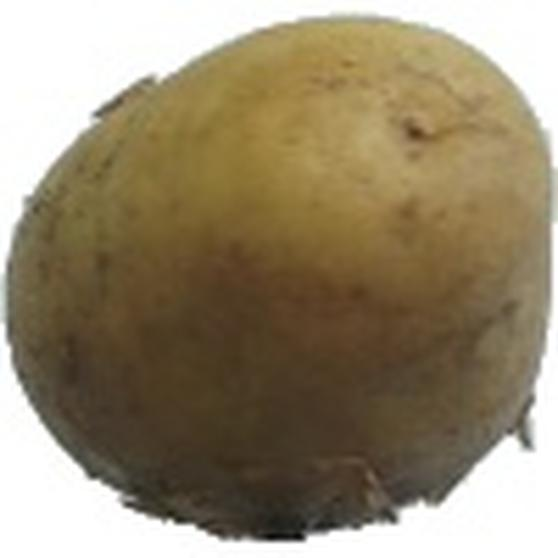potato: (12, 14, 548, 546)
